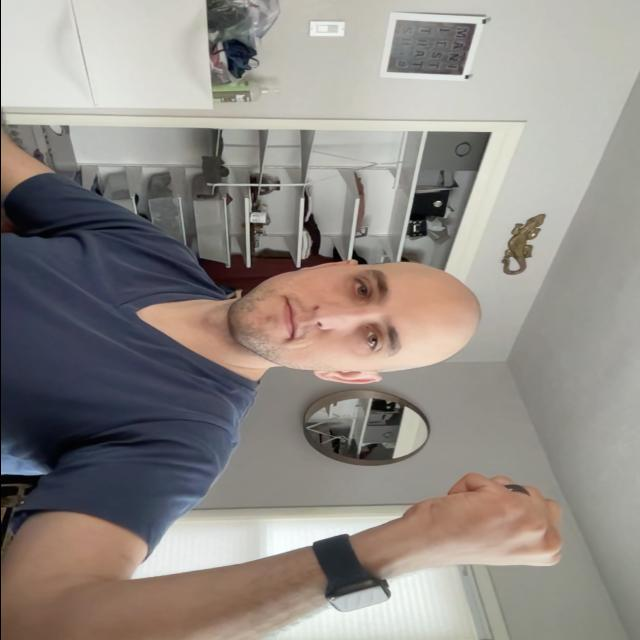Rock: (398, 470, 570, 574)
